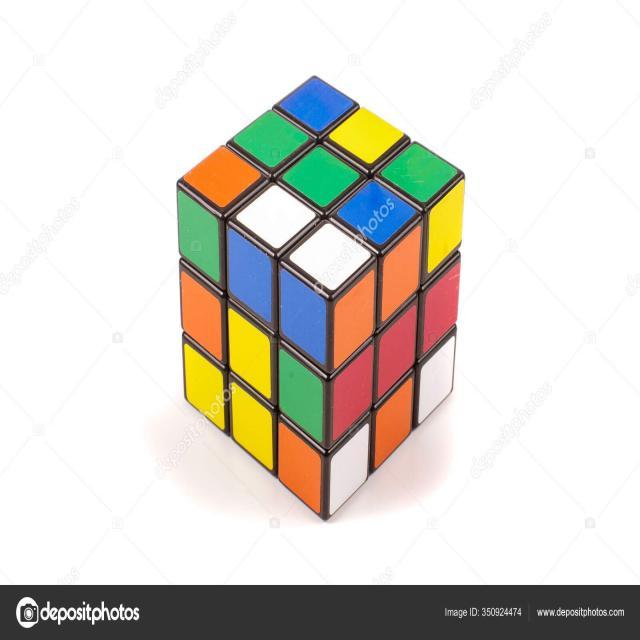Rub: (170, 67, 464, 520)
